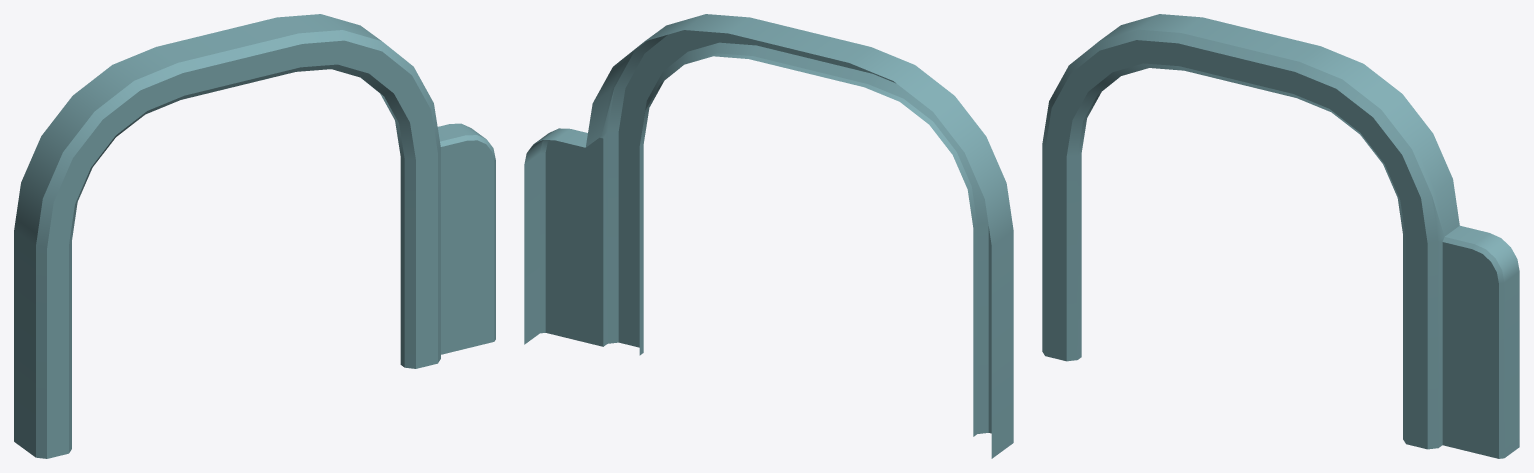
File: door_arch.fbx
3 renders of one model, left to right at view 1: azimuth 30°, elevation 25°; view 2: azimuth 150°, elevation 25°; view 3: azimuth 330°, elevation 25°, orthographic. The views are drawn at different scales.
Parts seen in each view (by area): view 1: door_arch; view 2: door_arch; view 3: door_arch.
Part boxes in pixels (left/top/right/bottom): door_arch: left=14, top=14, right=495, bottom=458; door_arch: left=524, top=14, right=1013, bottom=458; door_arch: left=1042, top=14, right=1519, bottom=458.
Bounding box in the file's own units: 532 × 393 × 51.25.
